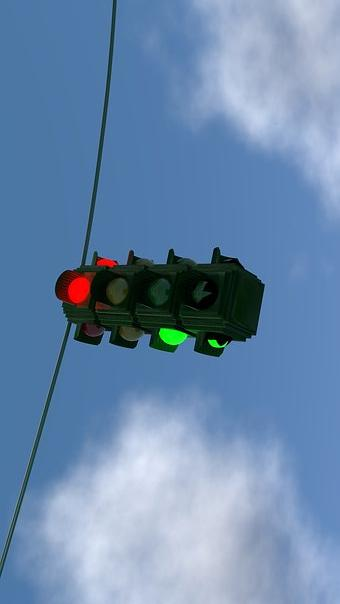trafic: (57, 263, 242, 318)
